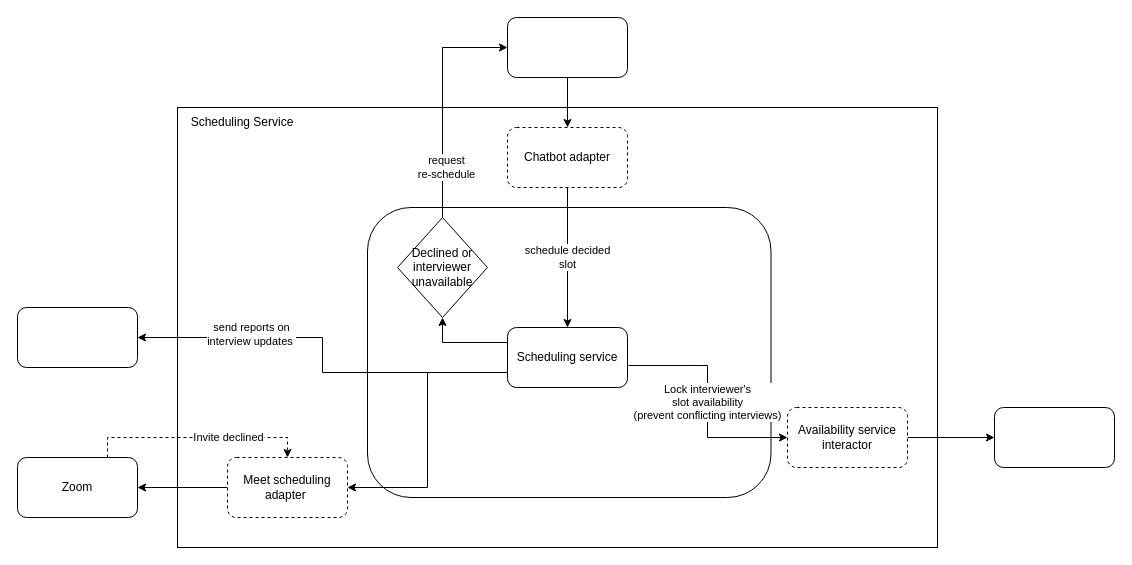
Image size: 1132x565. Some labels were removed from this diagram. Here are the shapes that lost their labels. From the top down, the box of each, then its label:
(506, 16, 628, 78): Chatbot
(16, 306, 138, 368): Interview dashboard
(994, 406, 1114, 468): Availability service
